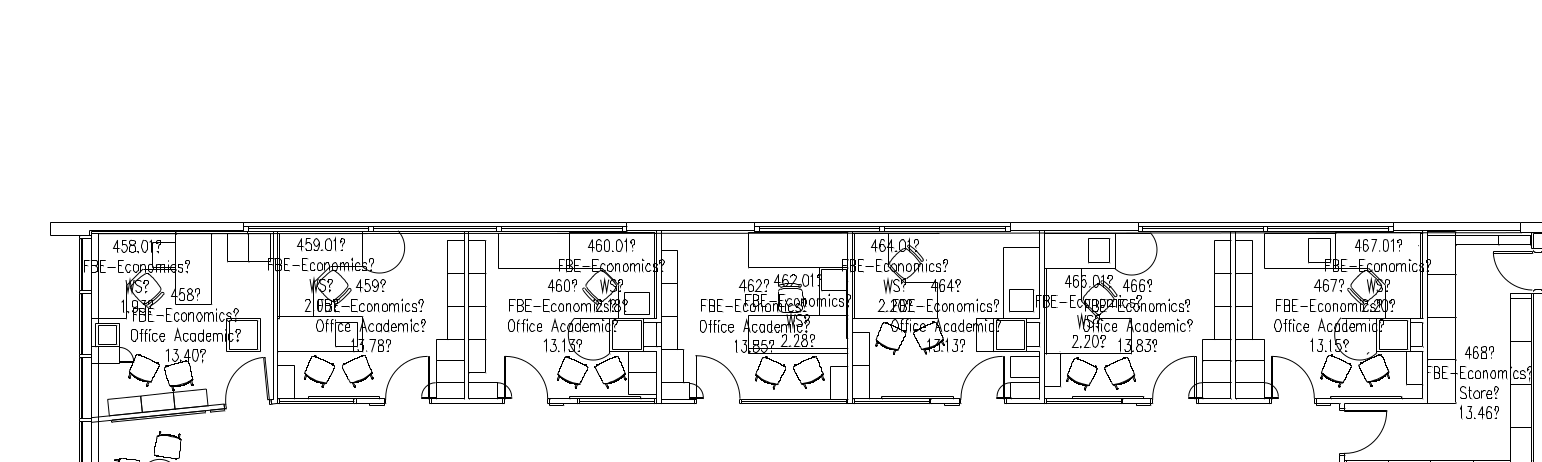door: (1267, 349, 1319, 416), (217, 354, 272, 417), (381, 349, 436, 412), (494, 346, 549, 409), (690, 352, 745, 415), (952, 354, 1007, 417), (1146, 352, 1201, 415), (1337, 406, 1395, 462), (1483, 246, 1542, 294)
